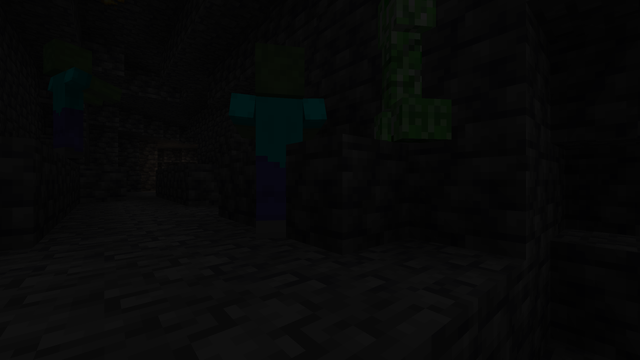creepers: (368, 0, 435, 147)
zombies: (242, 40, 316, 244), (40, 38, 90, 160)
